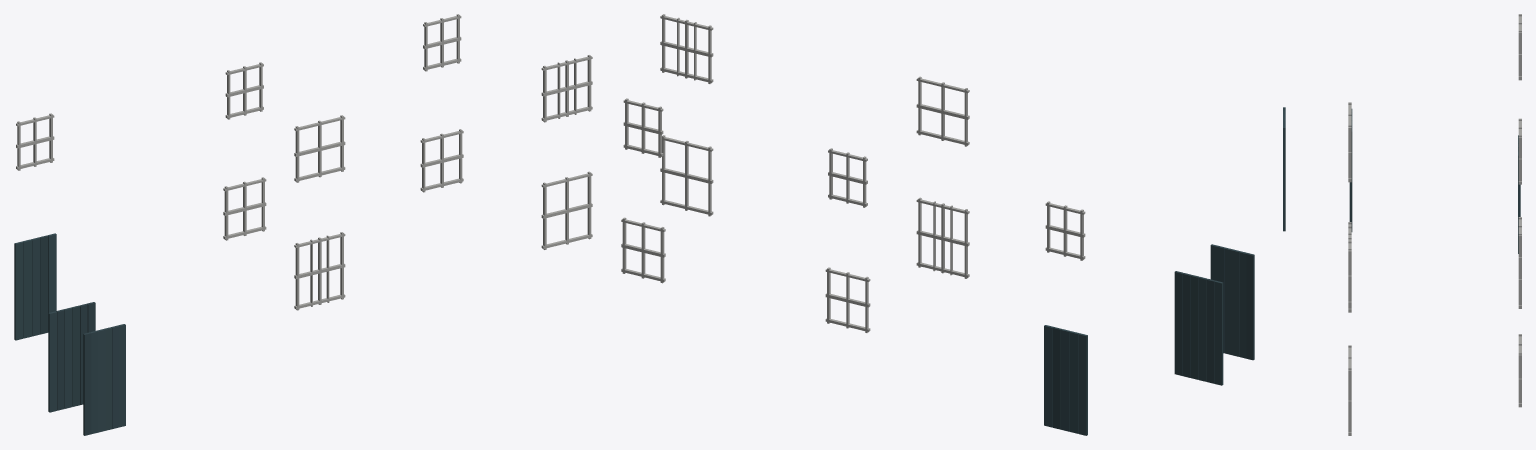
The model's file is SM_Bld_110_Wood.glb.
The picture shows the model from 3 angles, left to right: view 1: azimuth 30°, elevation 25°; view 2: azimuth 150°, elevation 25°; view 3: azimuth 270°, elevation 25°; orthographic projection. The views are drawn at different scales.
Visible parts, largest first — view 1: SM_Bld_110_Wood; view 2: SM_Bld_110_Wood; view 3: SM_Bld_110_Wood.
Part boxes in pixels (x1=…): SM_Bld_110_Wood: x1=14, y1=14, x2=592, y2=435; SM_Bld_110_Wood: x1=621, y1=14, x2=1254, y2=435; SM_Bld_110_Wood: x1=1283, y1=14, x2=1521, y2=435.
Size of the model in its own units: 11.78 by 4.68 by 4.4.
